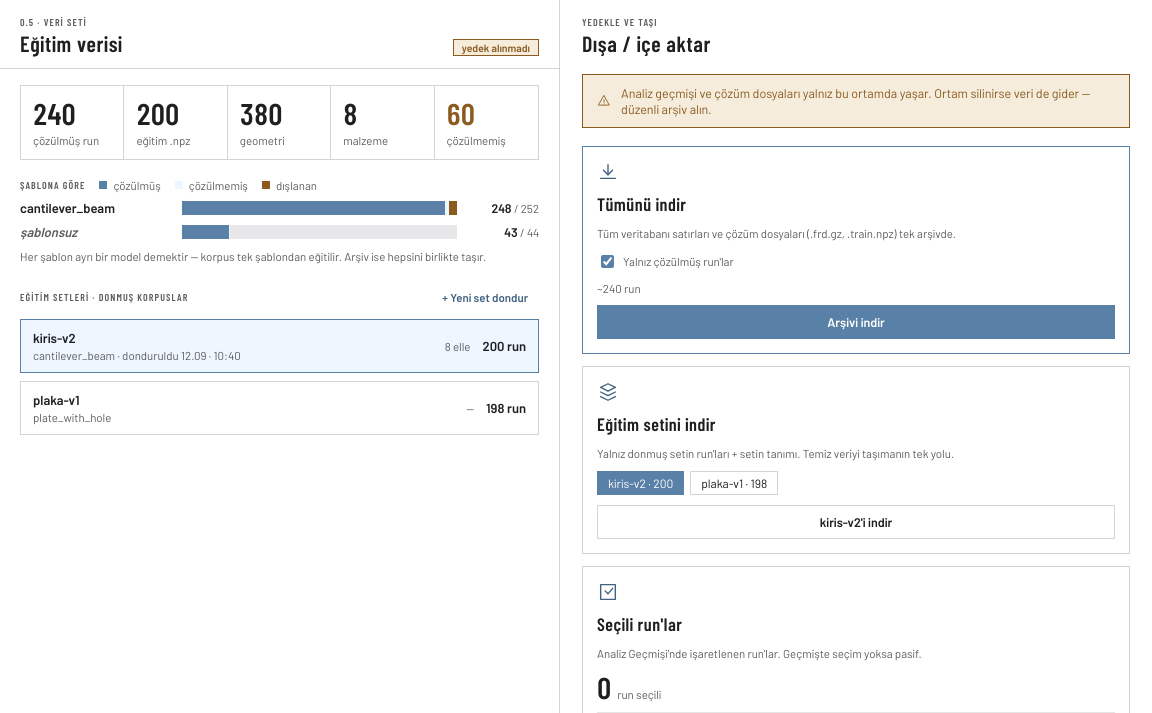
Test: DatasetPanel — veri seti aşaması › arşivi indir korpus göndermez ve son yedek rozetini günceller
Step 1. Click the button "Arşivi indir" → (856, 322), box [597,305,1115,339]
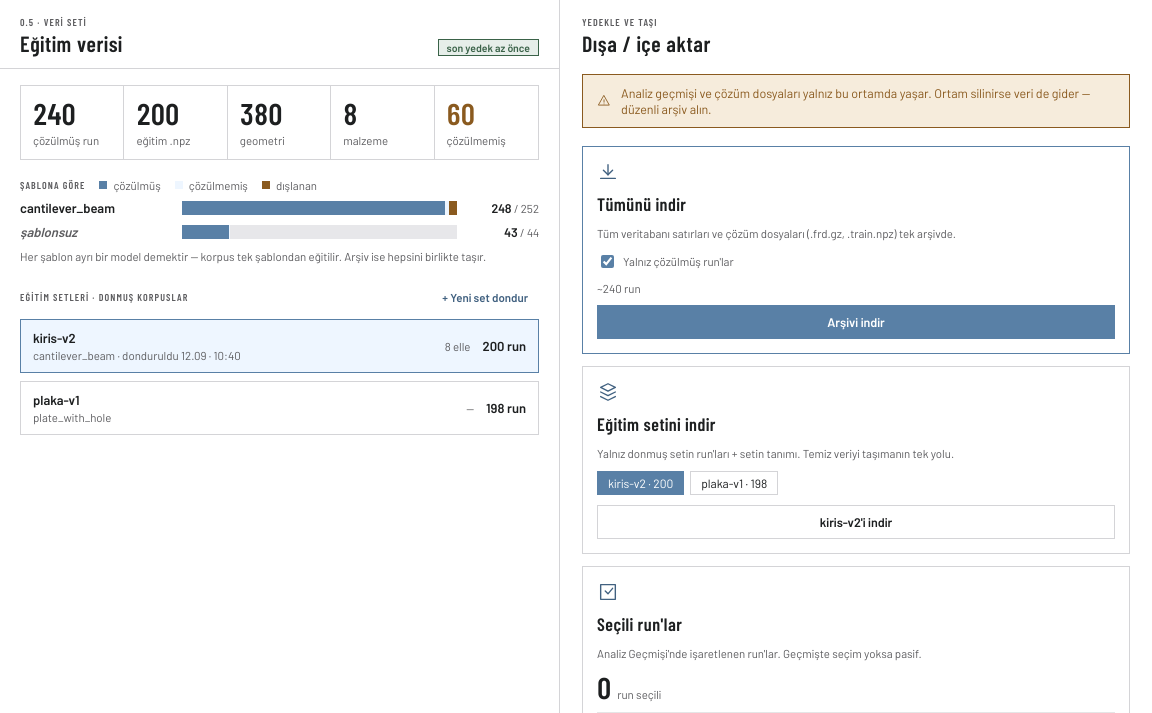
Expected: the text "son yedek az önce" is shown, [438,39,539,56]
